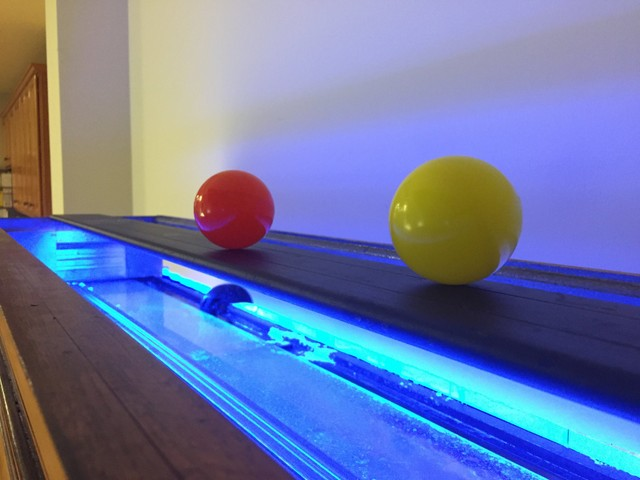Ball: (386, 156, 520, 286)
